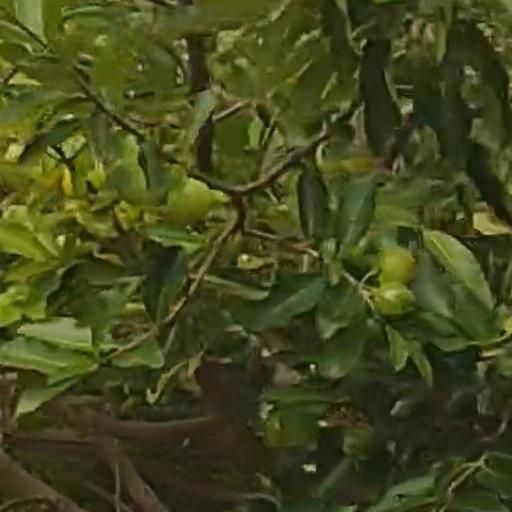acerola_verde: (375, 285, 416, 322), (379, 247, 414, 282)
